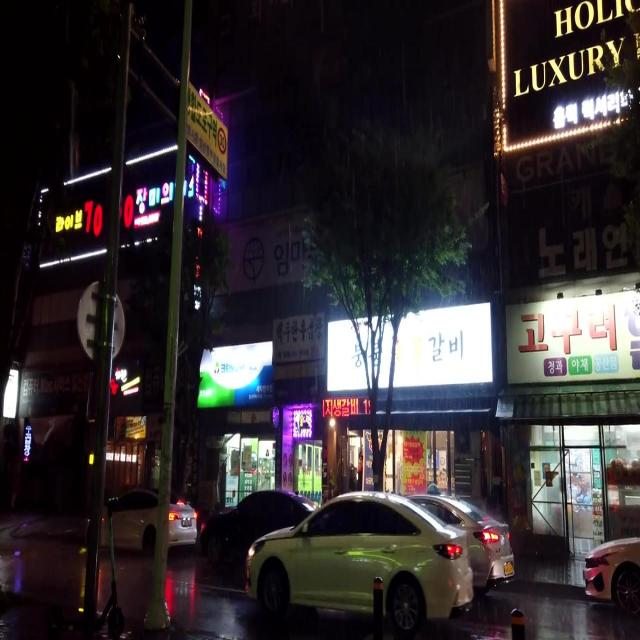Car: (243, 489, 472, 627), (81, 483, 196, 560)
